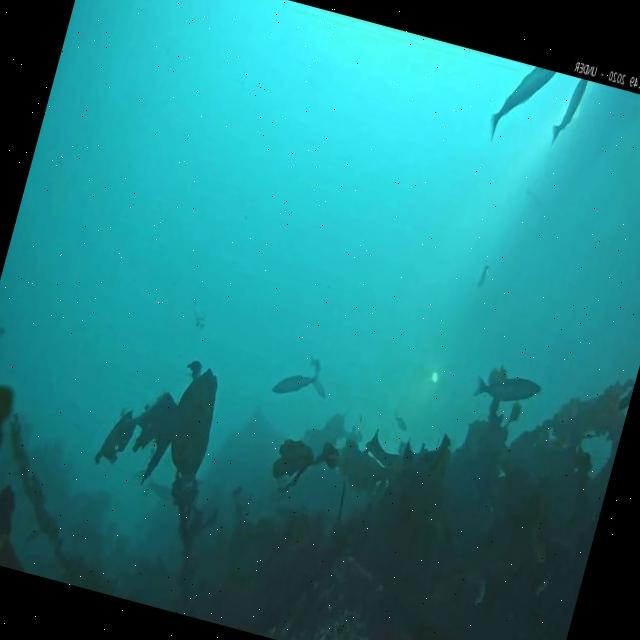fish: (486, 58, 558, 154), (471, 365, 543, 413), (548, 75, 588, 149), (270, 367, 316, 403), (308, 375, 330, 399), (306, 354, 324, 378), (392, 412, 409, 432), (477, 264, 491, 288)
